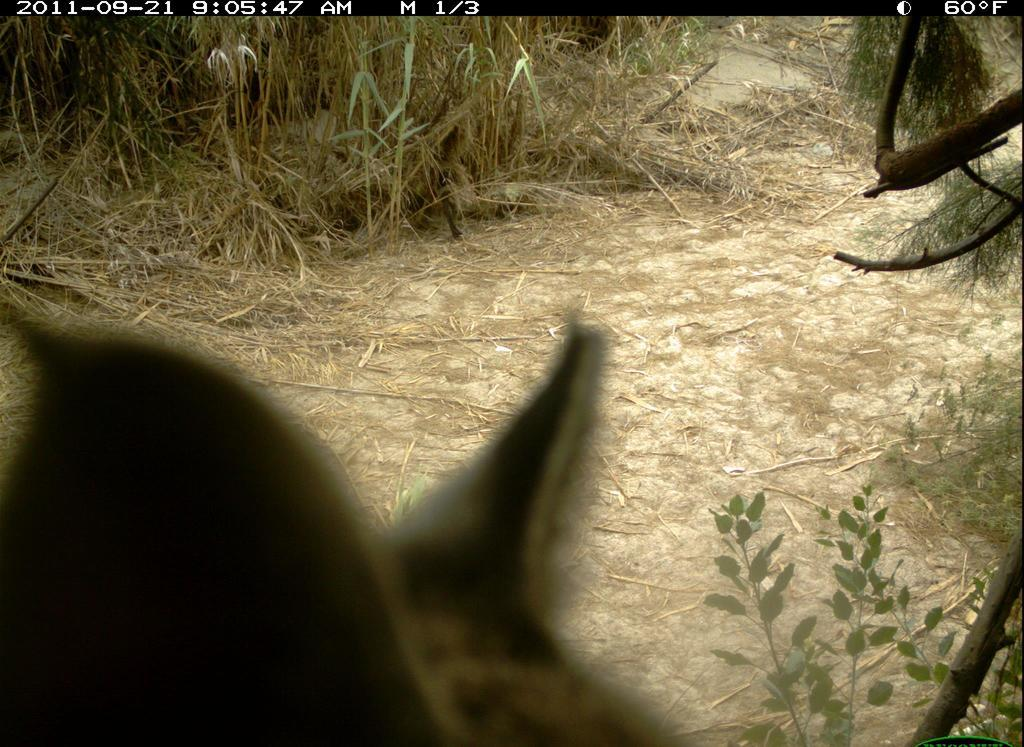bobcat: (4, 280, 724, 742)
